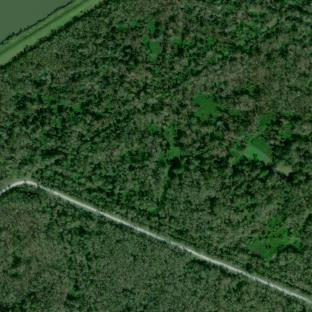Floresta: (0, 0, 312, 297), (0, 185, 312, 312), (0, 0, 0, 0)
